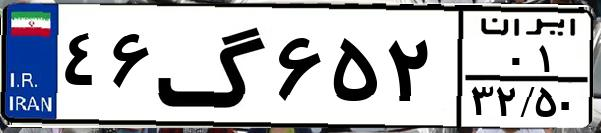0: (560, 70, 590, 125), (508, 27, 537, 80)
1: (537, 27, 568, 80)
2: (385, 28, 445, 110), (495, 70, 520, 125)
3: (470, 70, 495, 125)
4: (57, 26, 110, 100)
5: (330, 28, 385, 110), (535, 70, 560, 125)
6: (270, 28, 330, 110), (110, 28, 156, 98)
گ: (156, 12, 270, 120)
